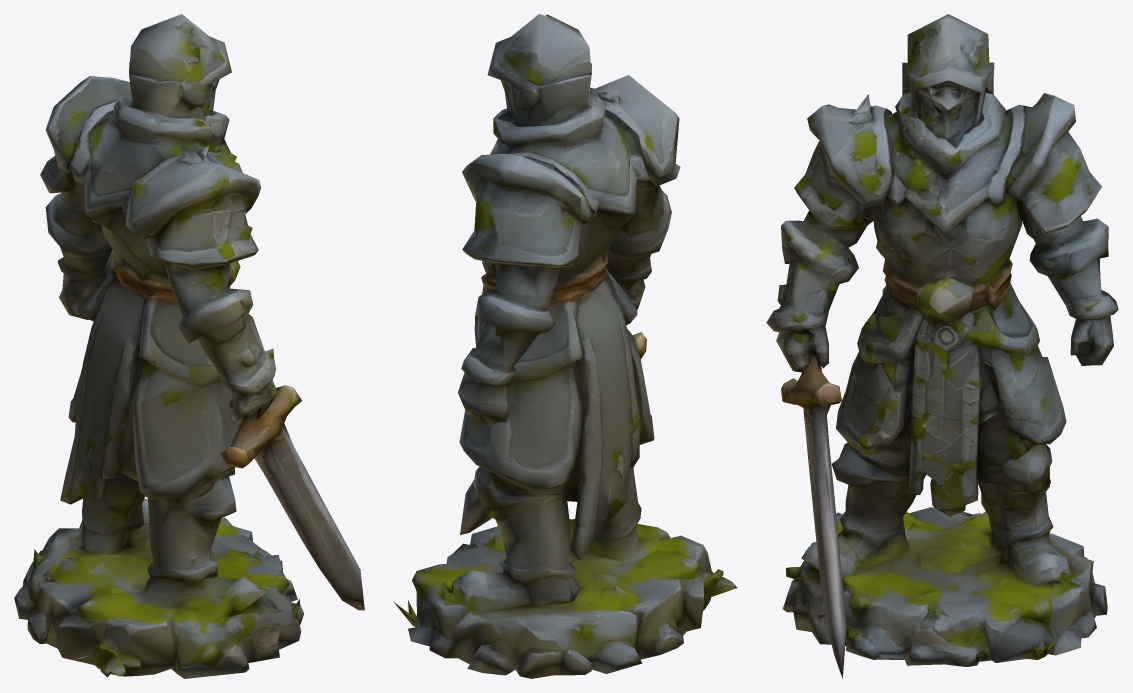
The model's file is decor_statue.glb.
3 renders of one model, left to right at view 1: azimuth 30°, elevation 25°; view 2: azimuth 150°, elevation 25°; view 3: azimuth 270°, elevation 25°, orthographic.
Visible parts, largest first — view 1: tripo_node_f1241a64-c1b4-495e-aca4-af42d4cd120e; view 2: tripo_node_f1241a64-c1b4-495e-aca4-af42d4cd120e; view 3: tripo_node_f1241a64-c1b4-495e-aca4-af42d4cd120e.
Boxes of the visible parts, x1,y1,x2,y2 form: tripo_node_f1241a64-c1b4-495e-aca4-af42d4cd120e: [14, 14, 364, 678]; tripo_node_f1241a64-c1b4-495e-aca4-af42d4cd120e: [394, 14, 737, 678]; tripo_node_f1241a64-c1b4-495e-aca4-af42d4cd120e: [766, 14, 1118, 678].
Bounding box in the file's own units: 0.486 × 1 × 0.5324.
Materials: 1 (1 with a texture image).
